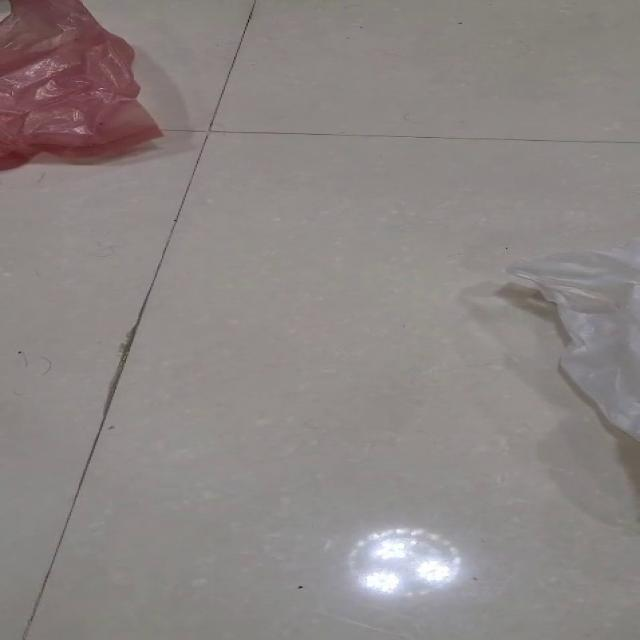plastic: (0, 0, 165, 171), (504, 238, 638, 442)
